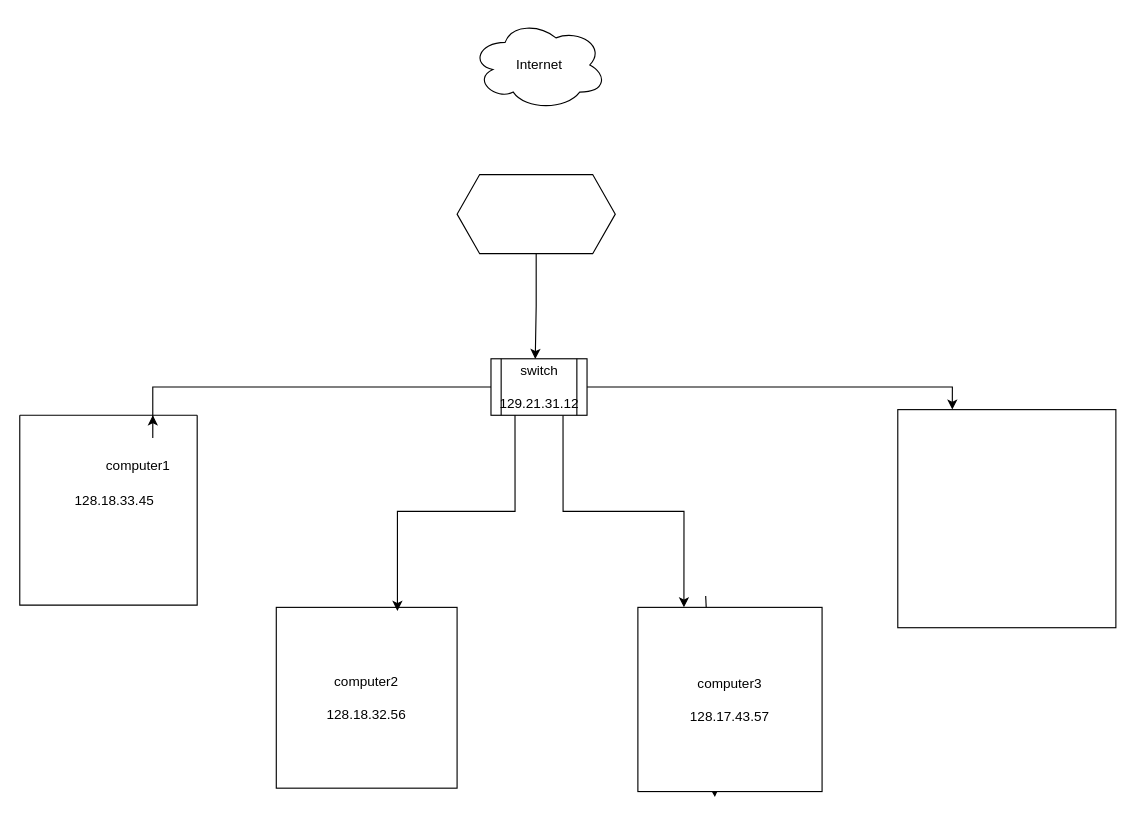
This 1136x826 diagram has some shape labels left out. Here are the shapes that lost their labels. From the top down, the centre of each, then its label:
At (x=535, y=213): "Router 129.12.32.49".
At (x=1006, y=518): "computer4 129.16.43.77".
